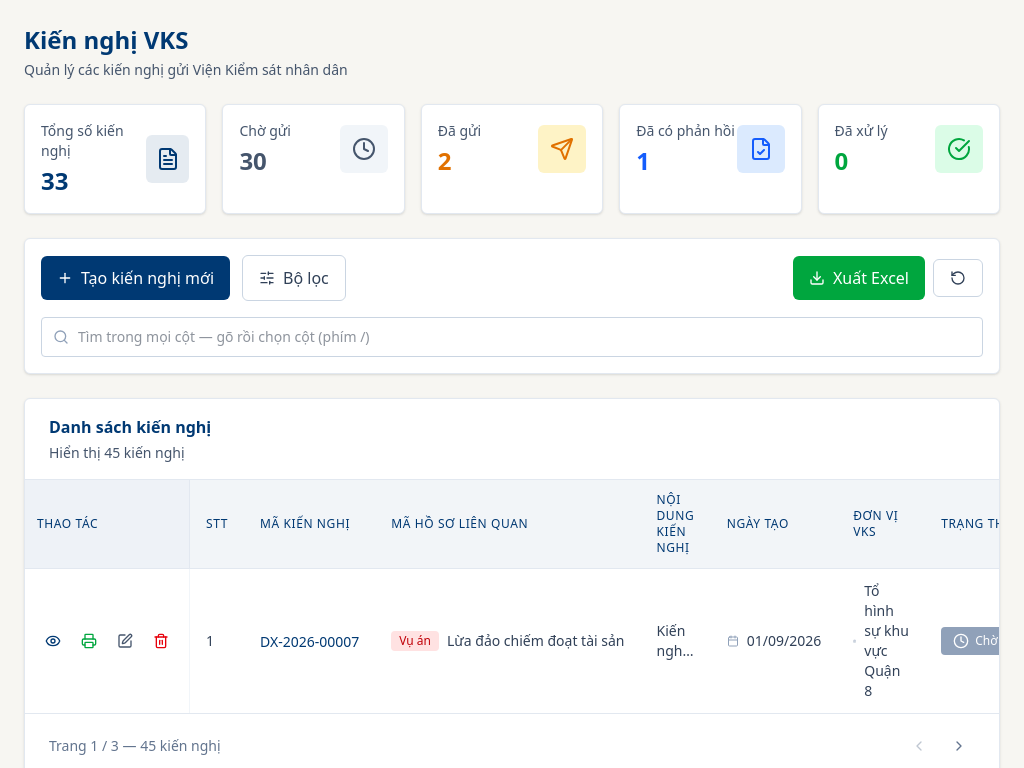
Test: ProsecutorProposalPage — tìm kiếm và thống kê phía máy chủ › "Hiển thị N" là tổng của máy chủ; phân trang gửi offset; STT theo trang
Expected: the button with test id "view-btn-k1" is shown, top-left (37, 625), bottom-right (69, 657)
Expected: the text with test id "proposal-total" reads "45", top-left (104, 443), bottom-right (120, 462)
Click the button with test id "proposal-next-page" at [959, 746], box top-left (943, 730), bottom-right (975, 762)
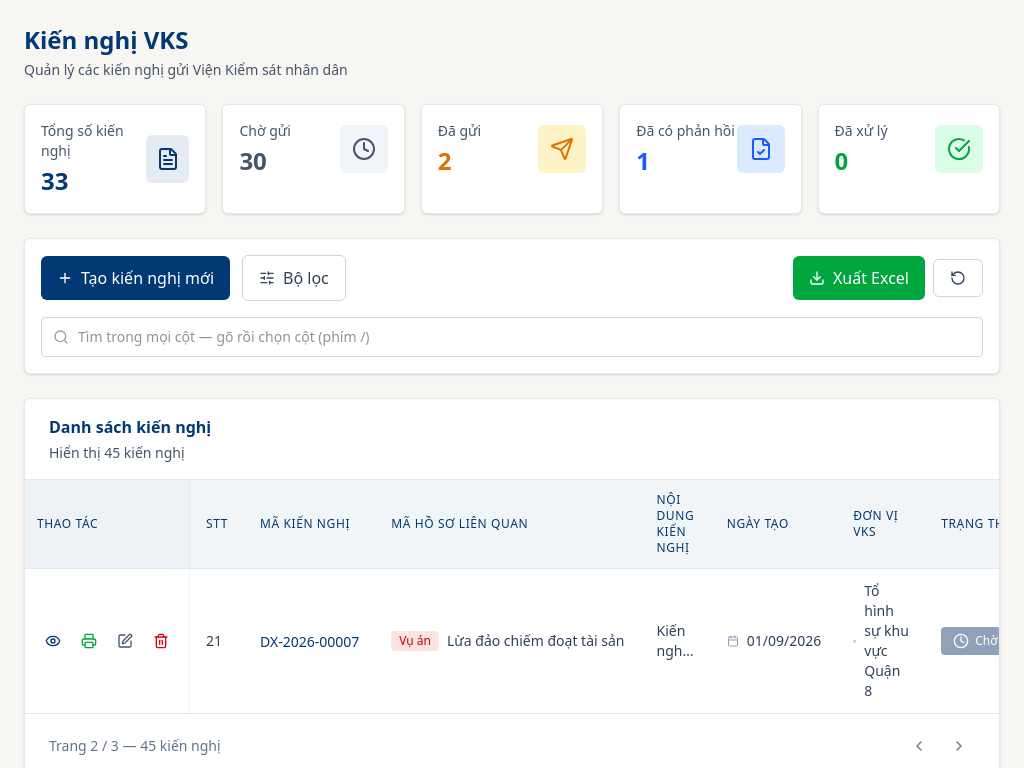
Now the text "21" is shown, box top-left (190, 568), bottom-right (244, 713)
